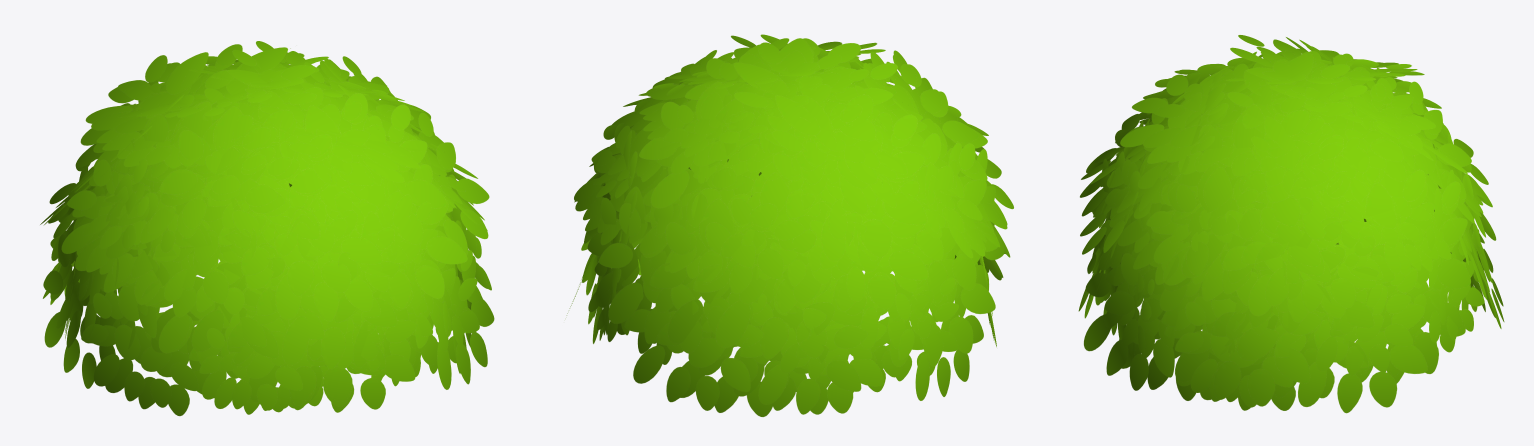
File: bush_c.glb
3 renders of one model, left to right at view 1: azimuth 30°, elevation 25°; view 2: azimuth 150°, elevation 25°; view 3: azimuth 270°, elevation 25°, orthographic. The views are drawn at different scales.
Size of the model in its own units: 1.09 by 0.6917 by 1.05.
1 material, 1 textured.
